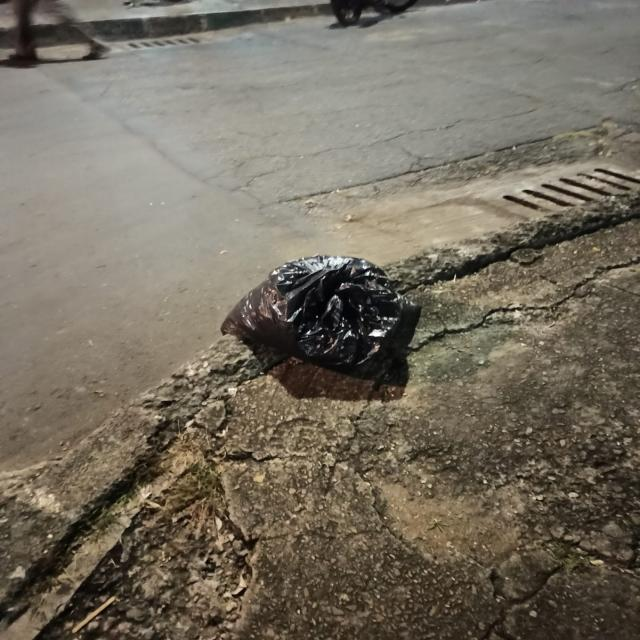Garbage_Bag: (218, 246, 426, 378)
